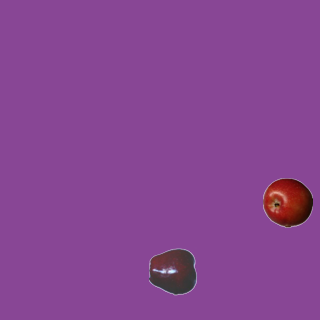Apple Braeburn: (262, 177, 312, 227)
Apple Red Delicious: (148, 246, 198, 296)
